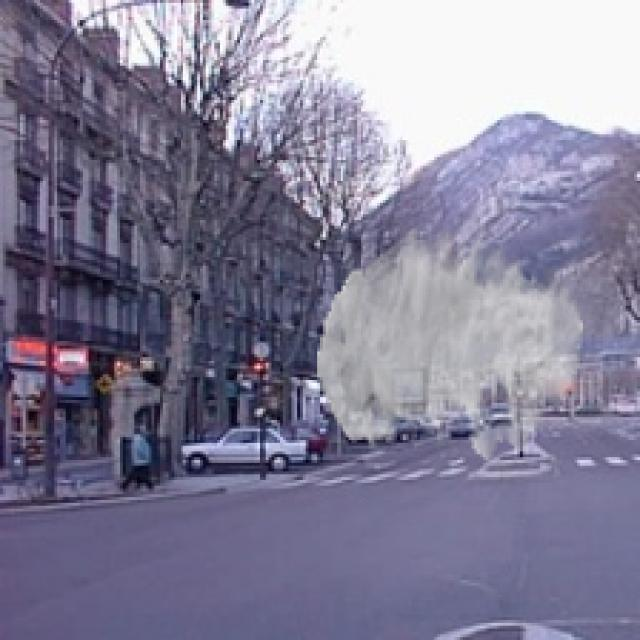smoke: (317, 226, 583, 460)
